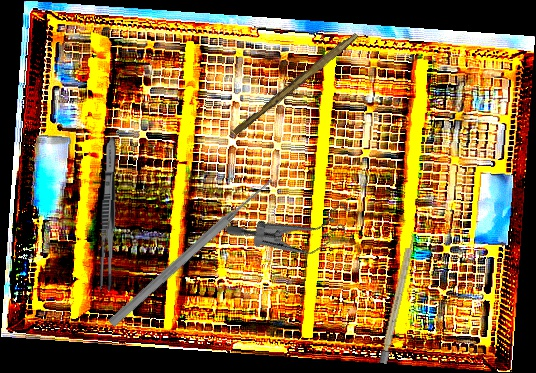Dressing Forceps: (98, 136, 119, 293)
Pusher: (106, 174, 277, 330)
Scalpel Handle: (231, 28, 360, 139), (379, 231, 417, 365)
Speculum: (224, 166, 362, 288)
